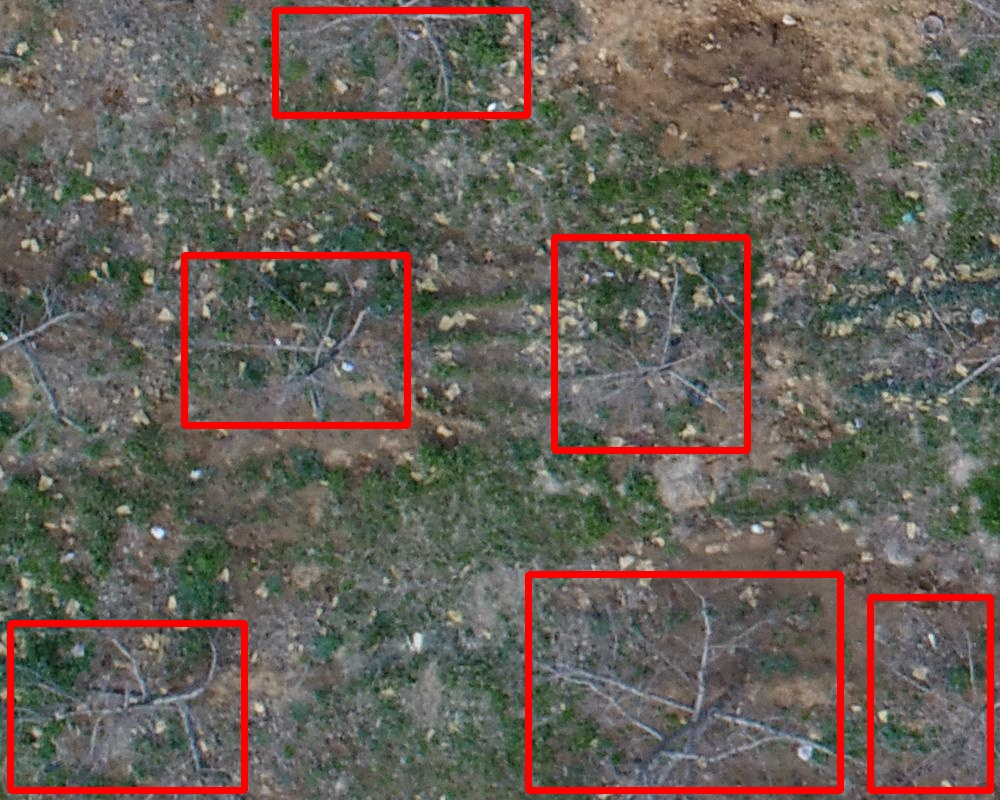apple: (528, 574, 840, 790), (554, 237, 747, 450), (10, 623, 244, 790), (184, 255, 407, 425), (275, 10, 527, 115), (870, 597, 990, 790)
